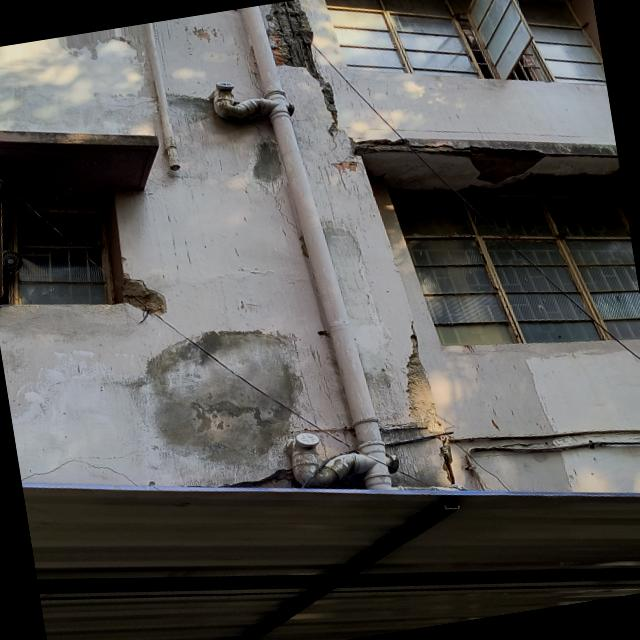peeling: (65, 24, 156, 98), (331, 160, 357, 175), (193, 28, 210, 42)
spalling: (146, 331, 305, 478), (262, 0, 337, 135), (492, 170, 624, 198), (162, 95, 269, 126), (470, 149, 543, 185), (348, 134, 418, 157), (253, 140, 283, 182), (463, 187, 490, 194)
